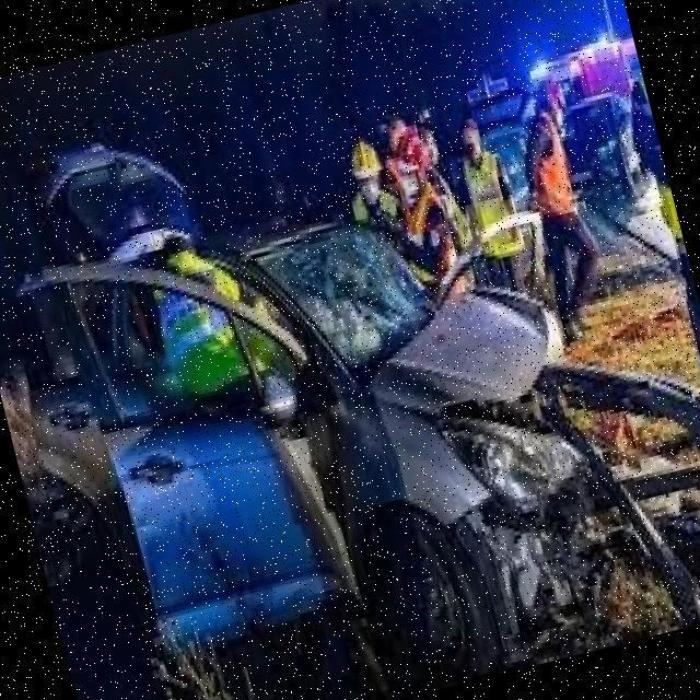Accident: (0, 10, 700, 700)
